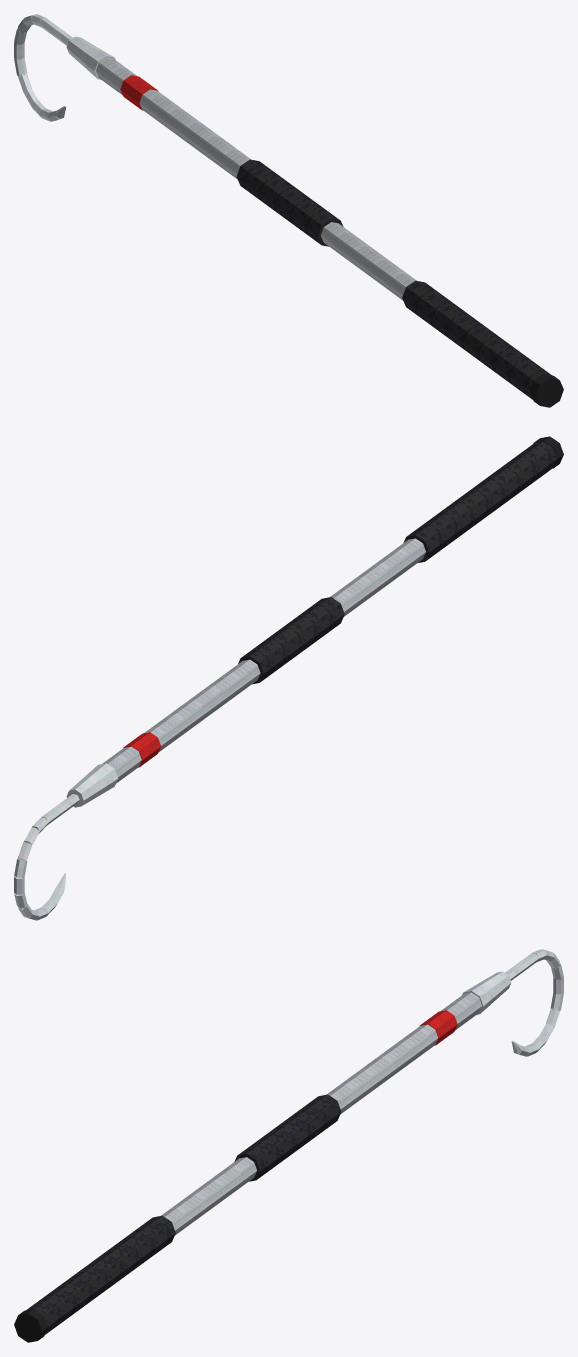
File: gaff.glb
3 views of the same model, one above another, from view 1: azimuth 30°, elevation 25°; view 2: azimuth 150°, elevation 25°; view 3: azimuth 330°, elevation 25° (orthographic).
Visible parts, largest first — view 1: gaff; view 2: gaff; view 3: gaff.
Boxes of the visible parts, bbox=[...] form: gaff: bbox=[14, 14, 563, 407]; gaff: bbox=[14, 436, 563, 920]; gaff: bbox=[14, 949, 563, 1342].
Size of the model in its own units: 0.052 by 0.1932 by 1.71.
Materials: 5 (5 with a texture image).
